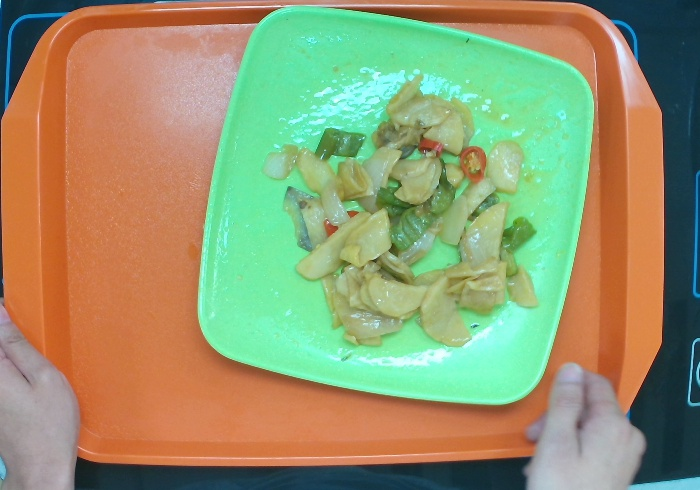ZNLD-Lv_Fang_Pan: (193, 2, 593, 412)
